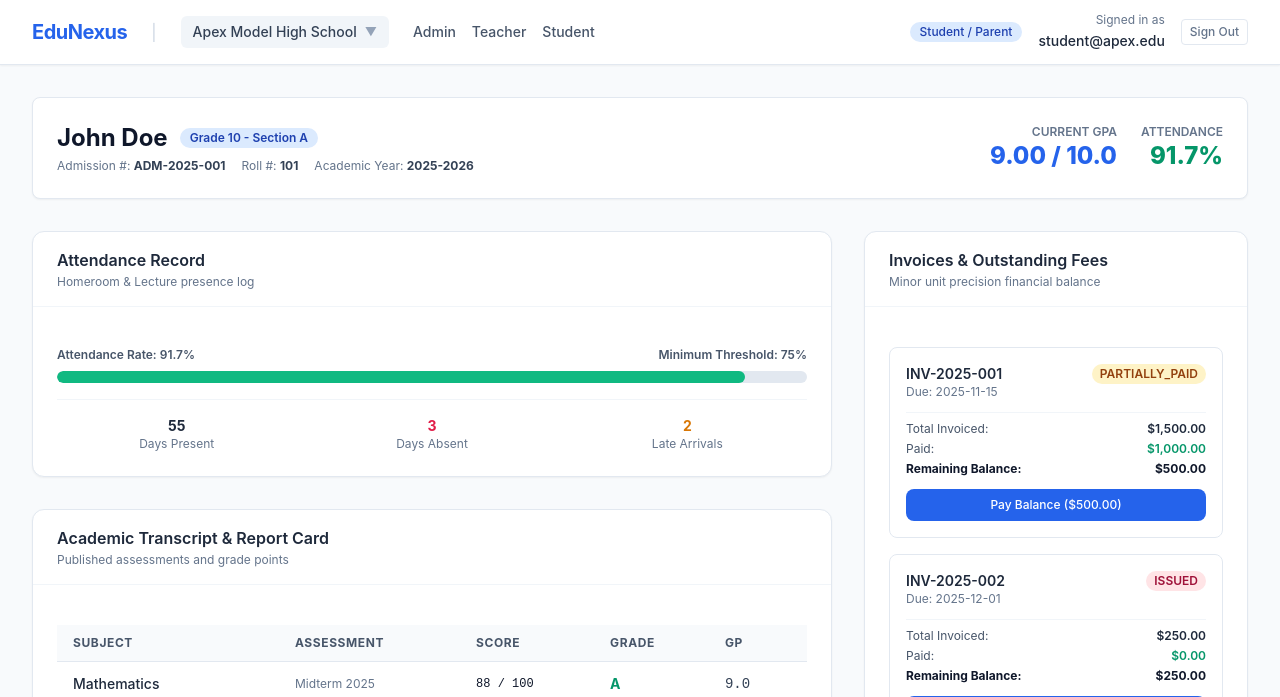
StudentPortal Component › opens payment checkout modal and executes payment transaction
Click the button "Pay Balance ($500.00)": [1056, 505] box left=906, top=489, right=1206, bottom=521
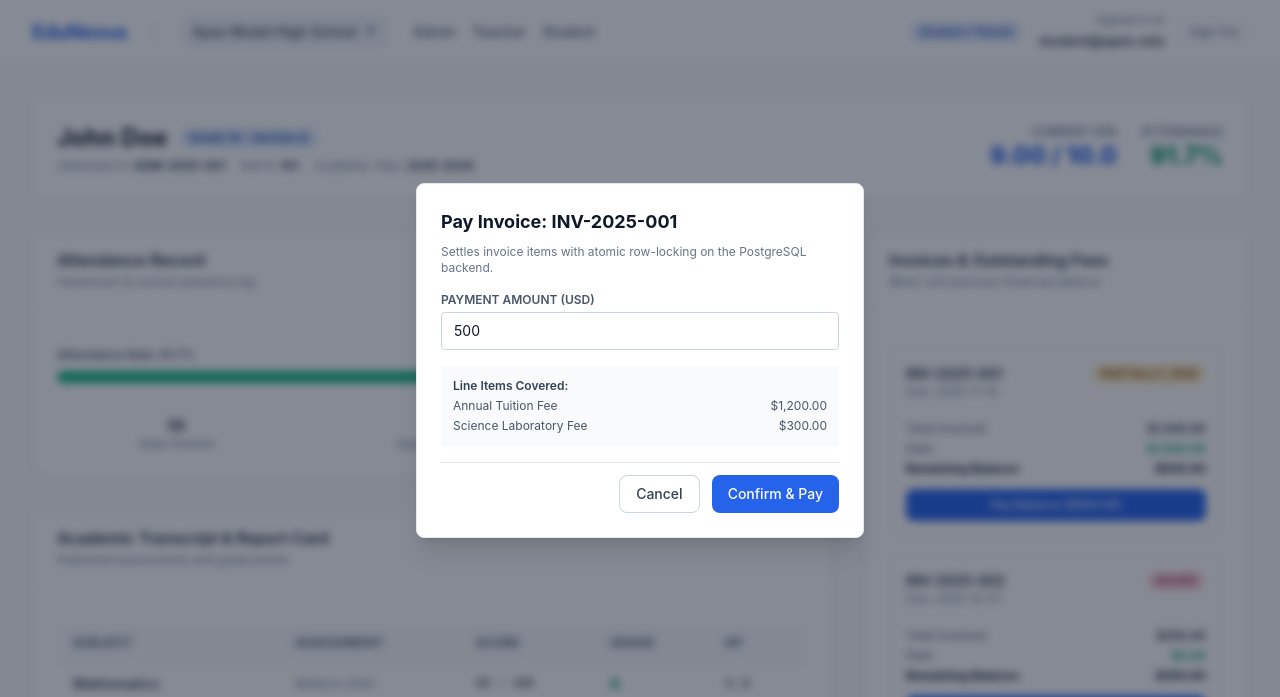
Check: the heading "Pay Invoice: INV-2025-001" is shown, box left=441, top=210, right=677, bottom=232
Click the button "Confirm & Pay": [775, 494] box left=712, top=474, right=839, bottom=512
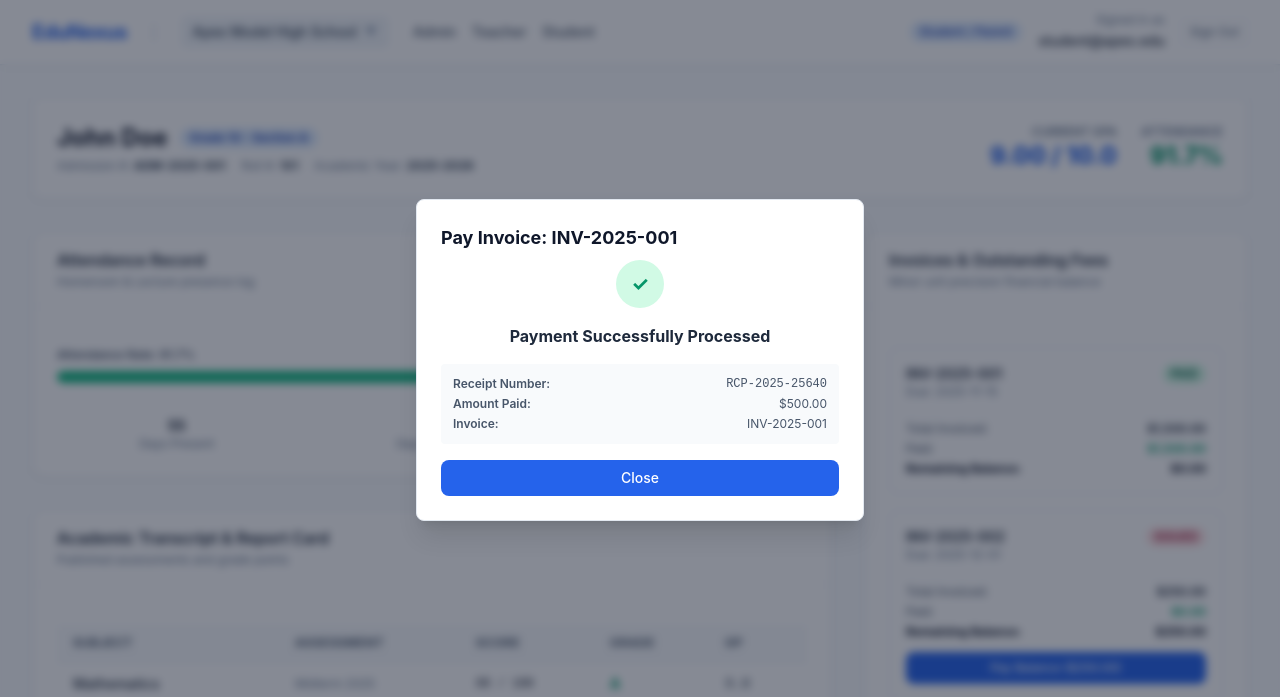
Check: the heading "Payment Successfully Processed" is shown, box left=510, top=326, right=770, bottom=346
Check: the text "Receipt Number:" is shown, box left=453, top=376, right=550, bottom=392
